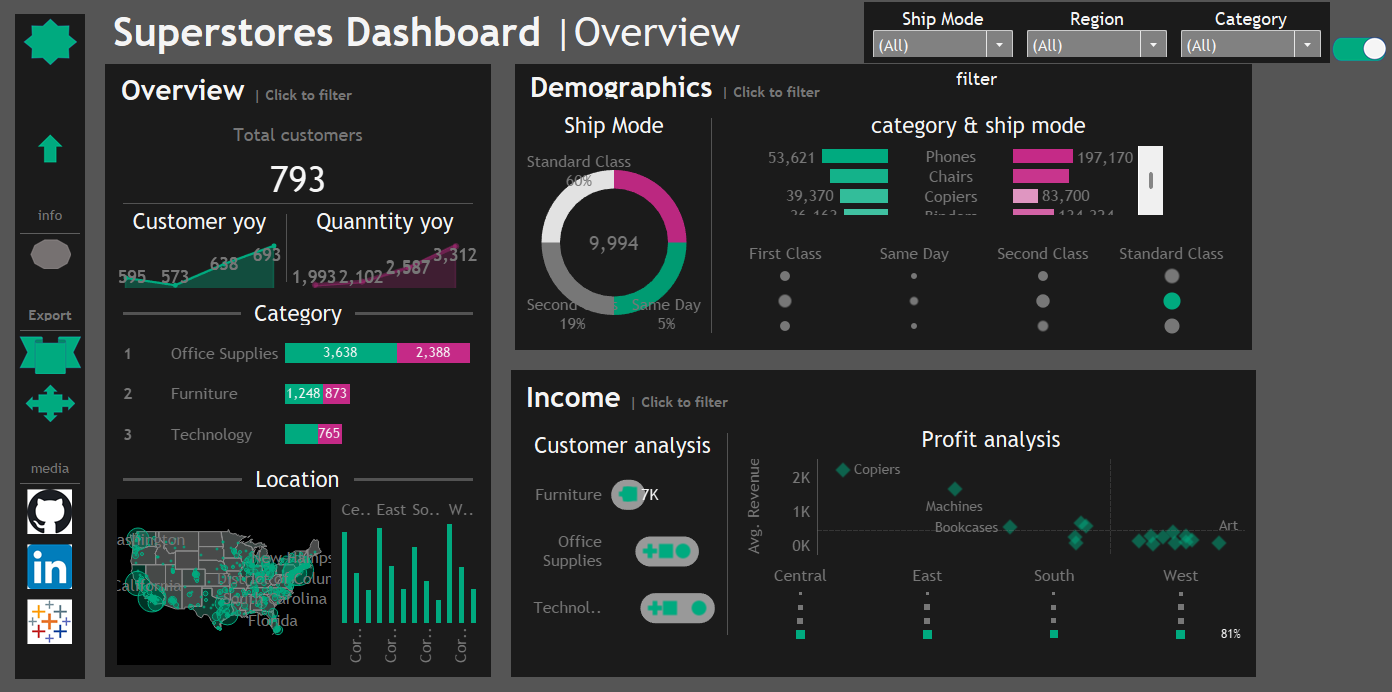

What the dashboard file says about the page in this screenshot:
{"tool":"tableau","page":{"name":"superstore dashboard","canvas":[1400,800],"ordinal":0},"visuals":[{"type":"blank","box":[91,0,1307,200]},{"type":"text","box":[110,0,1270,65]},{"type":"filter","title":"orders  by category","param":"[federated.0fxx86d0z886dx1delkt71s4ty38].[none:Ship Mode:nk]","box":[871,5,154,57]},{"type":"filter","title":"orders  by category","param":"[federated.0fxx86d0z886dx1delkt71s4ty38].[none:Region:nk]","box":[1025,5,154,57]},{"type":"filter","title":"orders  by category","param":"[federated.0fxx86d0z886dx1delkt71s4ty38].[none:Category:nk]","box":[1179,5,154,57]},{"type":"image","param":"Image/Star.png","box":[20,15,70,55]},{"type":"dashboard-object","box":[1337,21,54,60]},{"type":"text","box":[952,67,59,26]},{"type":"blank","box":[20,70,70,60]},{"type":"text","box":[527,72,723,32]},{"type":"text","box":[118,73,370,36]},{"type":"text","box":[118,109,370,47]},{"type":"text","box":[527,109,184,34]},{"type":"blank","box":[716,109,1,235.5]},{"type":"text","box":[722,109,523,34]},{"type":"dashboard-object","box":[20,130,70,38]},{"type":"worksheet","title":"ship_mode analysis","mark":"Pie","cols":["Calculation_1506172627059503112","Calculation_1506172627059503112"],"box":[527,143,184,201.5]},{"type":"worksheet","title":"profi across categry by ship mode (3)","mark":"Bar","rows":["Sub-Category"],"cols":["Calculation_1506172627358117898","Calculation_1506172627359244301","Calculation_1506172627358965772"],"box":[722,143,523,77]},{"type":"worksheet","title":"total_customers","mark":"Text","box":[118,156,370,48]},{"type":"blank","box":[20,168,70,36]},{"type":"text","box":[91,200,1307,333]},{"type":"text","box":[20,204,70,25]},{"type":"blank","box":[118,204,370,1]},{"type":"text","box":[118,205,173,34]},{"type":"blank","box":[291,205,1,88]},{"type":"text","box":[292,205,196,34]},{"type":"worksheet","title":"ship_mode analysis (2)","mark":"Circle","rows":["Category"],"cols":["Ship Mode"],"box":[722,220,523,124.5]},{"type":"blank","box":[20,229,70,11]},{"type":"worksheet","title":"customer by year","mark":"Line","rows":["Calculation_1506172626607820801","Calculation_1506172626607820801"],"cols":["Order Date"],"box":[118,239,173,54]},{"type":"worksheet","title":"Quantity by year","mark":"Line","rows":["Calculation_1506172627037093890","Calculation_1506172627037093890"],"cols":["Order Date"],"box":[292,239,196,54]},{"type":"dashboard-object","box":[20,240,70,30]},{"type":"blank","box":[20,270,70,36]},{"type":"blank","box":[128,298,118,32]},{"type":"text","box":[246,298,114,32]},{"type":"blank","box":[360,298,118,32]},{"type":"text","box":[20,306,70,20]},{"type":"blank","box":[20,326,70,11]},{"type":"worksheet","title":"orders  by category","mark":"Bar","rows":["Calculation_1506172627041202180","Category"],"cols":["Order ID"],"box":[118,330,370,129]},{"type":"dashboard-object","box":[20,337,70,38]},{"type":"blank","box":[20,375,70,10]},{"type":"text","box":[523,378.5,731,41]},{"type":"dashboard-object","box":[20,385,70,38]},{"type":"blank","box":[20,423,70,36]},{"type":"blank","box":[732,424.5,1,222]},{"type":"text","box":[738,424.5,516,32]},{"type":"text","box":[528,429.5,199,34]},{"type":"worksheet","title":"profi across categry by ship mode (2)","mark":"Shape","rows":["Revenue"],"cols":["date_diff"],"box":[738,456.5,516,104]},{"type":"text","box":[20,459,70,20]},{"type":"worksheet","title":"profi across categry by ship mode","mark":"Square","rows":["Category"],"cols":["Profit","Profit"],"box":[528,463.5,199,178]},{"type":"blank","box":[128,464,119.3,32]},{"type":"text","box":[247.3,464,111.3,32]},{"type":"blank","box":[358.7,464,119.3,32]},{"type":"blank","box":[20,479,70,11]},{"type":"image","param":"Image/github.jpeg","box":[20,490,70,45]},{"type":"worksheet","title":"customer by region","mark":"Multipolygon","box":[118,496,222,174]},{"type":"worksheet","title":"customer by segment","mark":"Bar","rows":["Calculation_1506172626607820801"],"cols":["Region","Segment"],"box":[340,496,148,174]},{"type":"blank","box":[91,533,1307,267]},{"type":"blank","box":[20,535,70,10]},{"type":"image","param":"Image/linkedin.jpeg","box":[20,545,70,45]},{"type":"worksheet","title":"ship mode vs region","mark":"Square","rows":["Ship Mode"],"cols":["Region"],"box":[738,560.5,516,86]},{"type":"blank","box":[20,590,70,10]},{"type":"image","param":"Image/tableau.jpeg","box":[20,600,70,45]}]}

Visuals, with their boxes on the page's 1400x800 design canvas (x1, y1, x2, y2). These are canvas units, not pixel positions in the 1392x692 screenshot, which may show the page scaled, cropped or inside an application window:
blank: [left=91, top=0, right=1398, bottom=200]
text: [left=110, top=0, right=1380, bottom=65]
"orders  by category" filter: [left=871, top=5, right=1025, bottom=62]
"orders  by category" filter: [left=1025, top=5, right=1179, bottom=62]
"orders  by category" filter: [left=1179, top=5, right=1333, bottom=62]
image: [left=20, top=15, right=90, bottom=70]
dashboard-object: [left=1337, top=21, right=1391, bottom=81]
text: [left=952, top=67, right=1011, bottom=93]
blank: [left=20, top=70, right=90, bottom=130]
text: [left=527, top=72, right=1250, bottom=104]
text: [left=118, top=73, right=488, bottom=109]
text: [left=118, top=109, right=488, bottom=156]
text: [left=527, top=109, right=711, bottom=143]
blank: [left=716, top=109, right=717, bottom=344]
text: [left=722, top=109, right=1245, bottom=143]
dashboard-object: [left=20, top=130, right=90, bottom=168]
"ship_mode analysis" worksheet (Pie marks): [left=527, top=143, right=711, bottom=344]
"profi across categry by ship mode (3)" worksheet (Bar marks): [left=722, top=143, right=1245, bottom=220]
"total_customers" worksheet (Text marks): [left=118, top=156, right=488, bottom=204]
blank: [left=20, top=168, right=90, bottom=204]
text: [left=91, top=200, right=1398, bottom=533]
text: [left=20, top=204, right=90, bottom=229]
blank: [left=118, top=204, right=488, bottom=205]
text: [left=118, top=205, right=291, bottom=239]
blank: [left=291, top=205, right=292, bottom=293]
text: [left=292, top=205, right=488, bottom=239]
"ship_mode analysis (2)" worksheet (Circle marks): [left=722, top=220, right=1245, bottom=344]
blank: [left=20, top=229, right=90, bottom=240]
"customer by year" worksheet (Line marks): [left=118, top=239, right=291, bottom=293]
"Quantity by year" worksheet (Line marks): [left=292, top=239, right=488, bottom=293]
dashboard-object: [left=20, top=240, right=90, bottom=270]
blank: [left=20, top=270, right=90, bottom=306]
blank: [left=128, top=298, right=246, bottom=330]
text: [left=246, top=298, right=360, bottom=330]
blank: [left=360, top=298, right=478, bottom=330]
text: [left=20, top=306, right=90, bottom=326]
blank: [left=20, top=326, right=90, bottom=337]
"orders  by category" worksheet (Bar marks): [left=118, top=330, right=488, bottom=459]
dashboard-object: [left=20, top=337, right=90, bottom=375]
blank: [left=20, top=375, right=90, bottom=385]
text: [left=523, top=378, right=1254, bottom=420]
dashboard-object: [left=20, top=385, right=90, bottom=423]
blank: [left=20, top=423, right=90, bottom=459]
blank: [left=732, top=424, right=733, bottom=646]
text: [left=738, top=424, right=1254, bottom=456]
text: [left=528, top=430, right=727, bottom=464]
"profi across categry by ship mode (2)" worksheet (Shape marks): [left=738, top=456, right=1254, bottom=560]
text: [left=20, top=459, right=90, bottom=479]
"profi across categry by ship mode" worksheet (Square marks): [left=528, top=464, right=727, bottom=642]
blank: [left=128, top=464, right=247, bottom=496]
text: [left=247, top=464, right=359, bottom=496]
blank: [left=359, top=464, right=478, bottom=496]
blank: [left=20, top=479, right=90, bottom=490]
image: [left=20, top=490, right=90, bottom=535]
"customer by region" worksheet (Multipolygon marks): [left=118, top=496, right=340, bottom=670]
"customer by segment" worksheet (Bar marks): [left=340, top=496, right=488, bottom=670]
blank: [left=91, top=533, right=1398, bottom=800]
blank: [left=20, top=535, right=90, bottom=545]
image: [left=20, top=545, right=90, bottom=590]
"ship mode vs region" worksheet (Square marks): [left=738, top=560, right=1254, bottom=646]
blank: [left=20, top=590, right=90, bottom=600]
image: [left=20, top=600, right=90, bottom=645]
